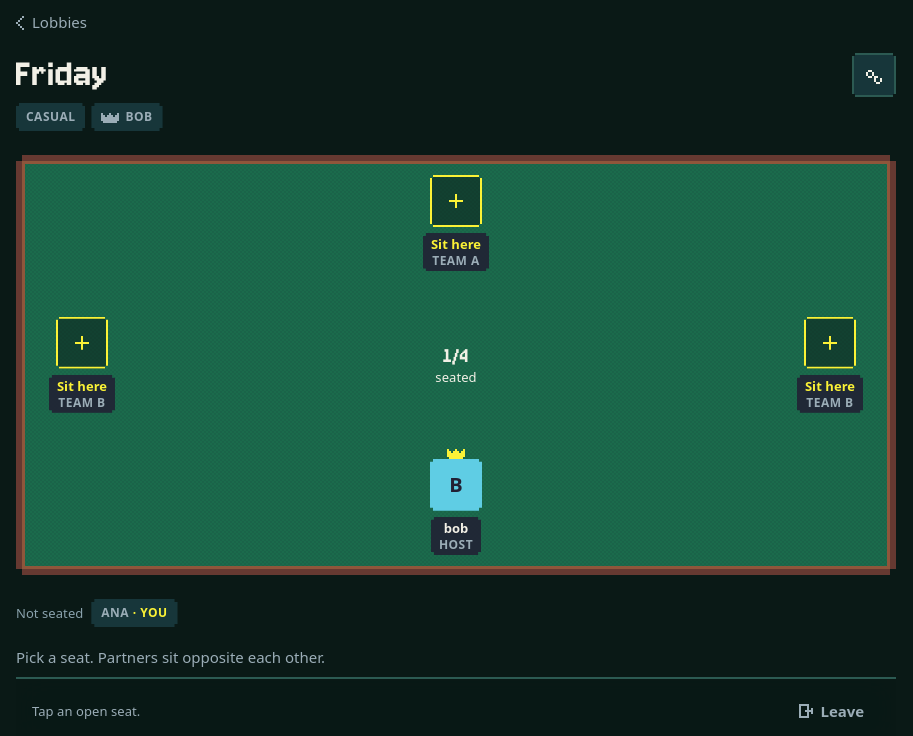
LobbyRoom: seats (spec §4.7 Actions) › a refused switch shows the server message
Step 1. Click the button with aria-label "Sit here, team B" → coordinates (830, 365), box [778,317,882,413]
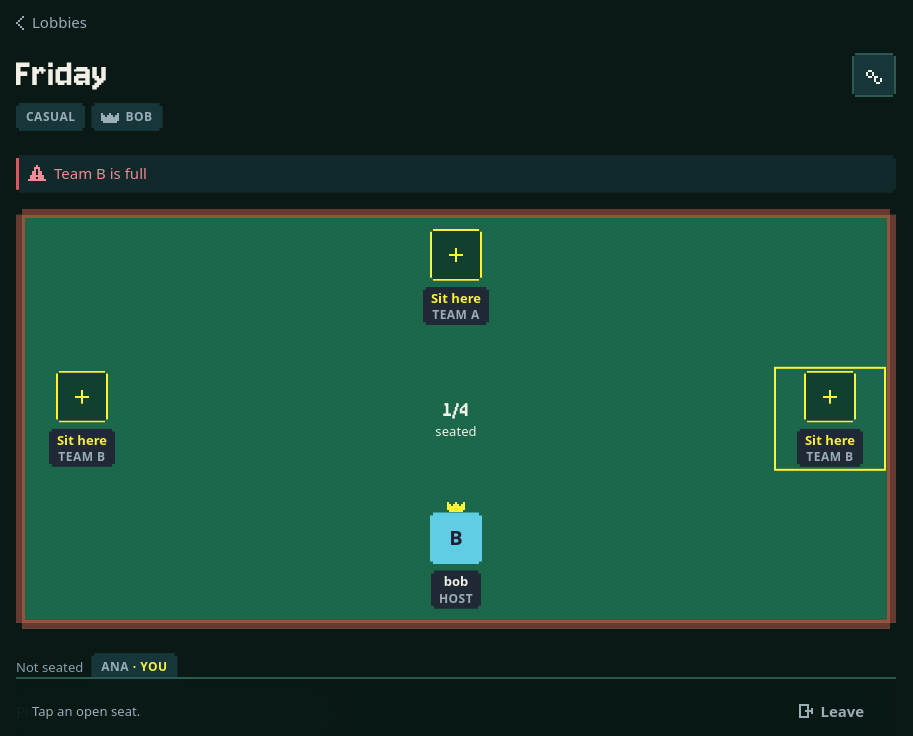
Now the message reads "Team B is full", box [54,163,147,183]
